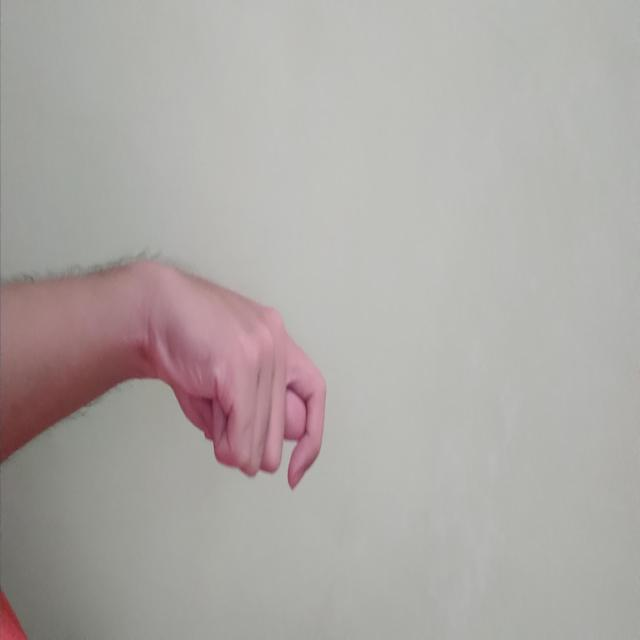T: (257, 311, 494, 488)
